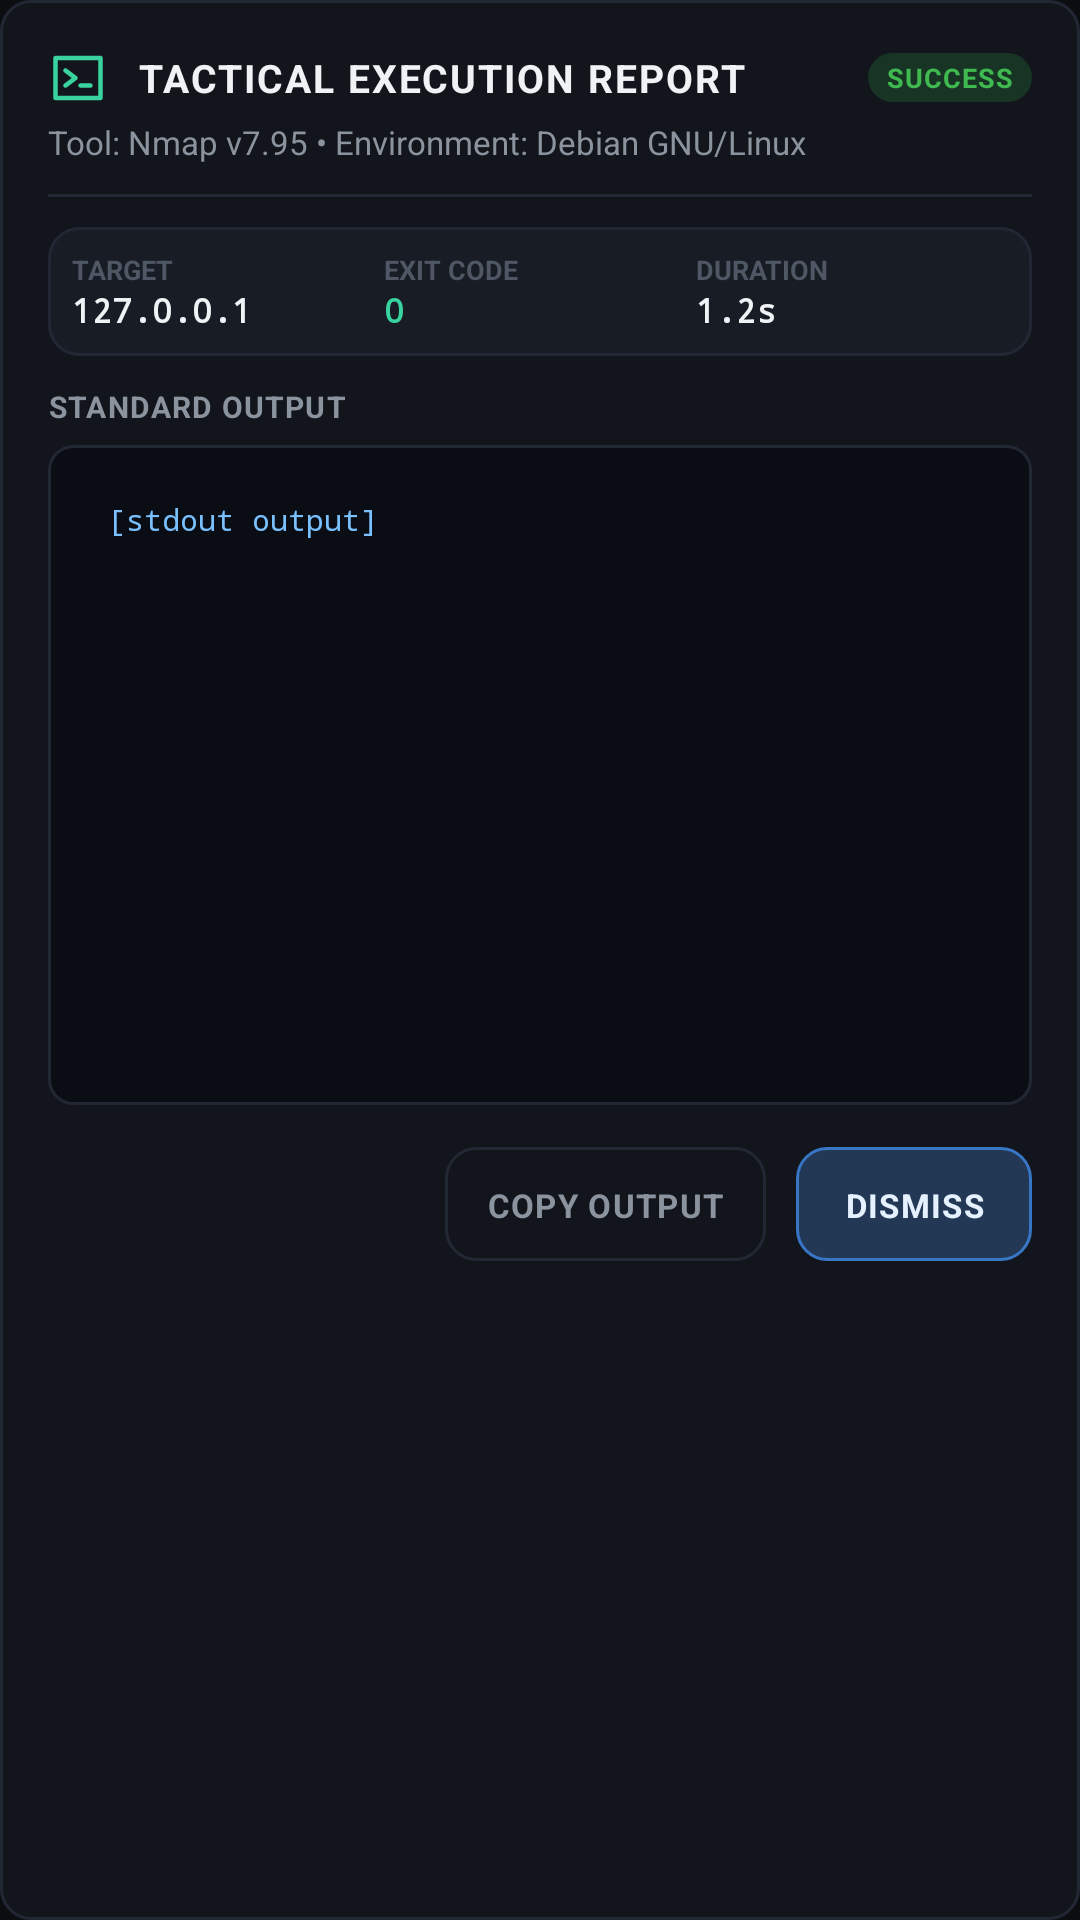

Where icons sit on this 1080w x 1920h app screen, as (x1, y1, x2, y2):
cat terminal: (53, 55, 103, 101)
